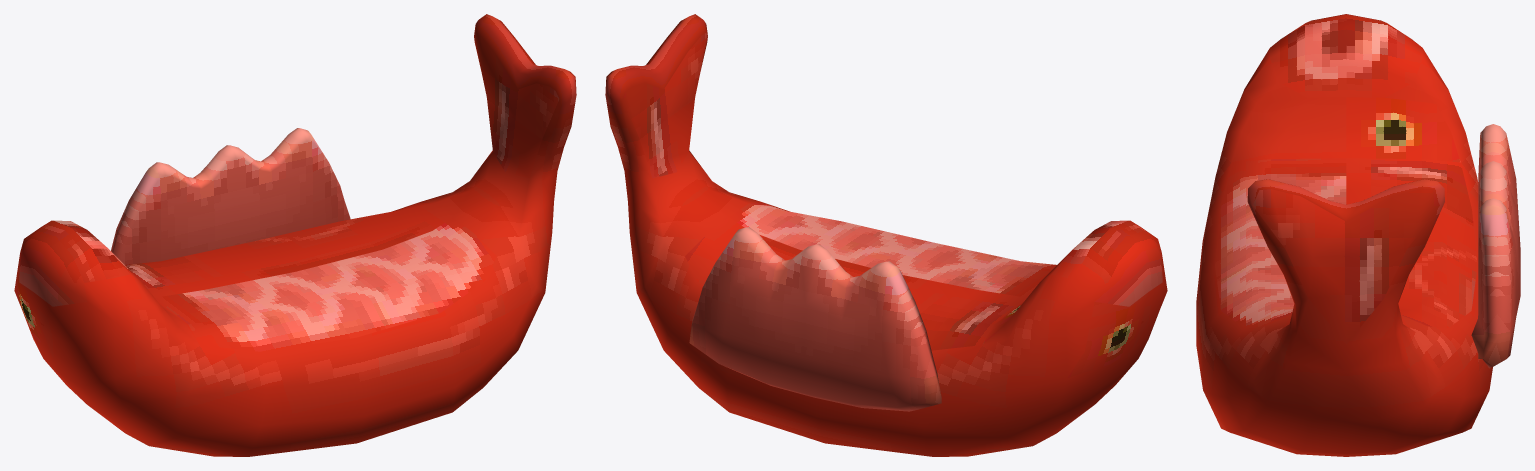
The model's file is int_fis_chairL.dae.
The picture shows the model from 3 angles, left to right: view 1: azimuth 30°, elevation 25°; view 2: azimuth 150°, elevation 25°; view 3: azimuth 270°, elevation 25°; orthographic projection. The views are drawn at different scales.
Visible parts, largest first — view 1: int_fis_chairL; view 2: int_fis_chairL; view 3: int_fis_chairL.
Part boxes in pixels (x1,y1,x2,y2): int_fis_chairL: (14, 14, 576, 456); int_fis_chairL: (605, 14, 1167, 456); int_fis_chairL: (1196, 14, 1520, 456).
Size of the model in its own units: 60.14 by 35.85 by 30.46.
1 material, 1 textured.
